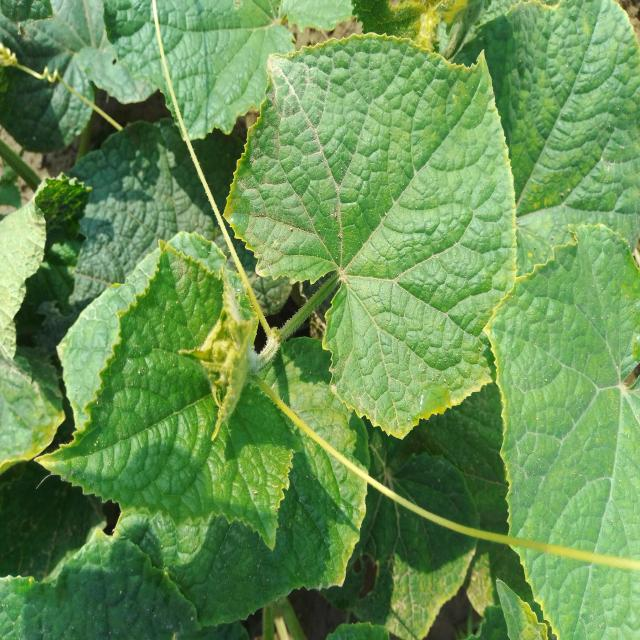cucumber_healthy: (30, 229, 372, 621), (220, 17, 527, 444), (477, 215, 640, 639), (424, 1, 640, 267), (37, 0, 276, 144), (54, 112, 222, 306), (2, 517, 207, 640)
